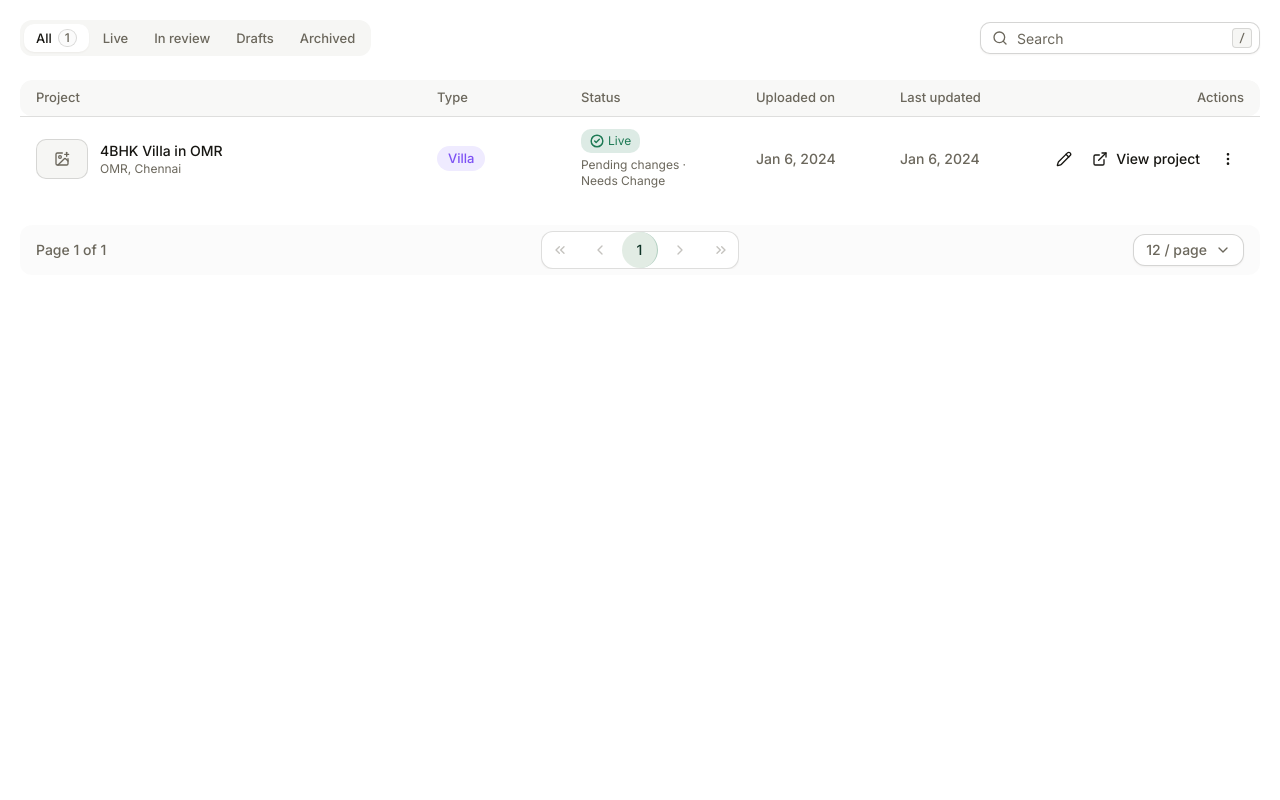
Test case: DesignerProjectsList › keeps moderation feedback available on a live project with pending changes
Expected: the text "Pending changes · Needs Change" is shown, [581,156,686,188]
Click the button with aria-label "Needs Change details". click: (652, 172)
box: [581,156,724,188]
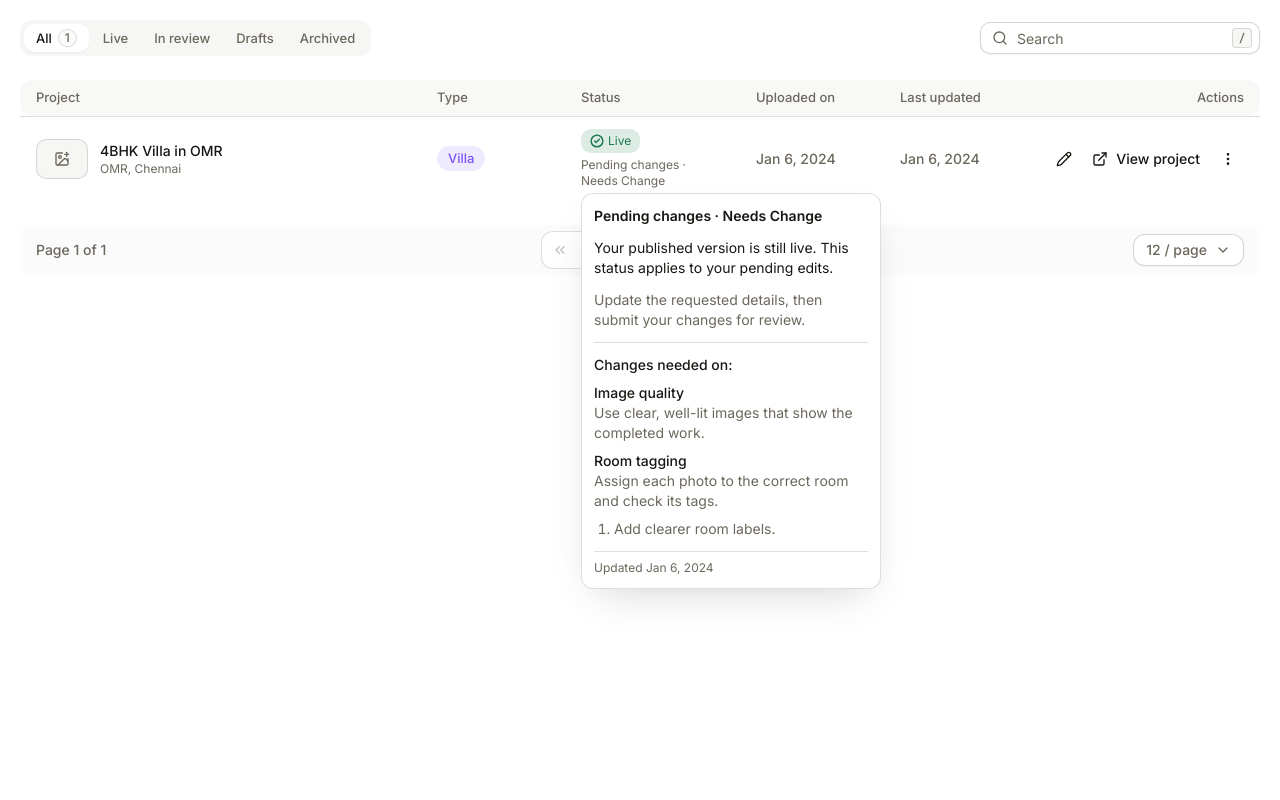
Expected: the tooltip shows "Add clearer room labels.", [614,520,776,537]
